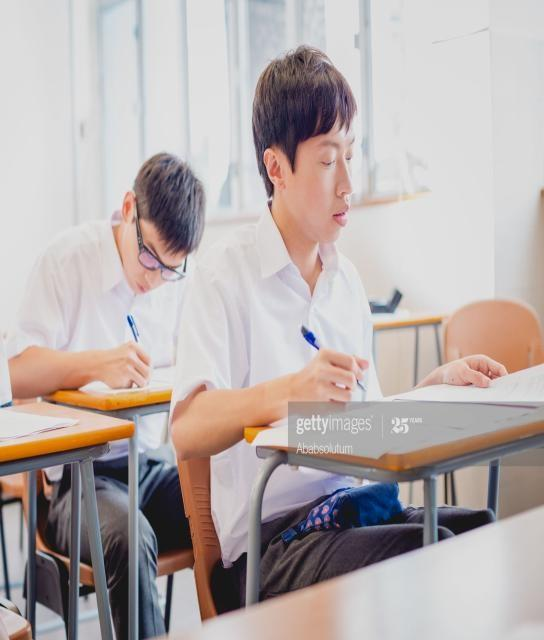good: (142, 37, 544, 421), (7, 122, 233, 410)
